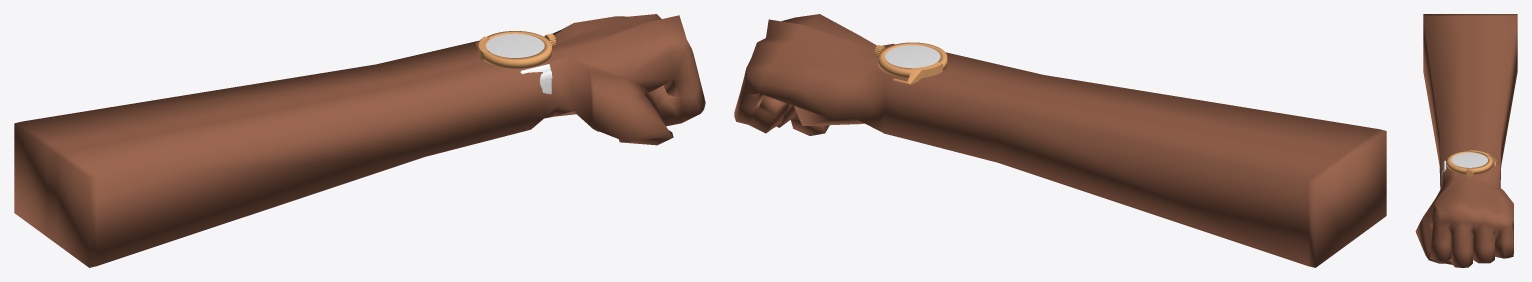
The model's file is TheWatchBatchTest.glb.
3 renders of one model, left to right at view 1: azimuth 30°, elevation 25°; view 2: azimuth 150°, elevation 25°; view 3: azimuth 270°, elevation 25°, orthographic. The views are drawn at different scales.
Visible parts, largest first — view 1: Hand2, Glass, CaseIn1, Band2; view 2: Hand2, Glass, CaseIn1, CaseOut1; view 3: Hand2, Glass, CaseIn1, CaseOut1.
Part boxes in pixels (left/top/right/bottom): Hand2: left=14, top=14, right=705, bottom=267; Glass: left=486, top=33, right=544, bottom=57; CaseIn1: left=483, top=31, right=551, bottom=68; Band2: left=520, top=64, right=552, bottom=94; Hand2: left=734, top=14, right=1386, bottom=267; Glass: left=885, top=45, right=940, bottom=68; CaseIn1: left=878, top=42, right=947, bottom=78; CaseOut1: left=893, top=62, right=942, bottom=84; Hand2: left=1415, top=14, right=1517, bottom=267; Glass: left=1451, top=152, right=1487, bottom=167; CaseIn1: left=1447, top=151, right=1492, bottom=174; CaseOut1: left=1469, top=150, right=1496, bottom=165.
Bounding box in the file's own units: 1.02 × 0.1833 × 0.226.
